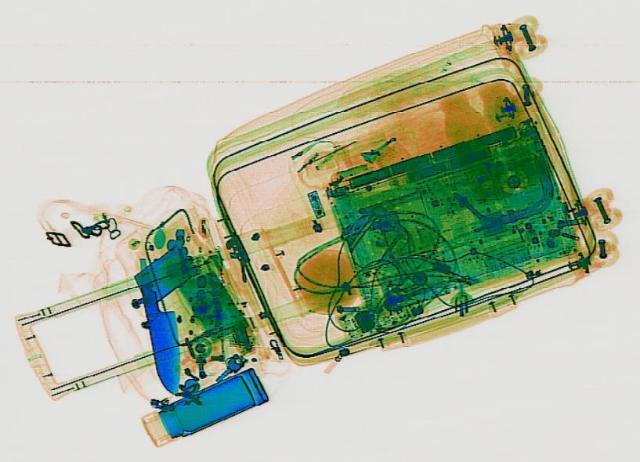Knife: (128, 254, 196, 393)
